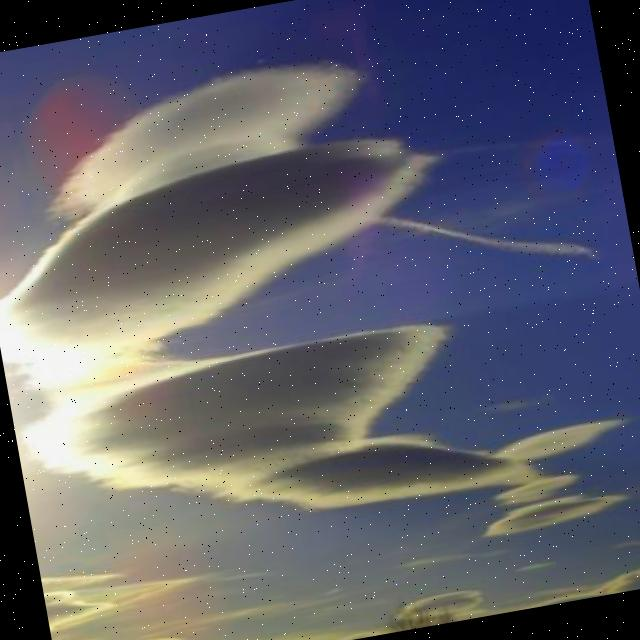Ac: (1, 1, 640, 628)
